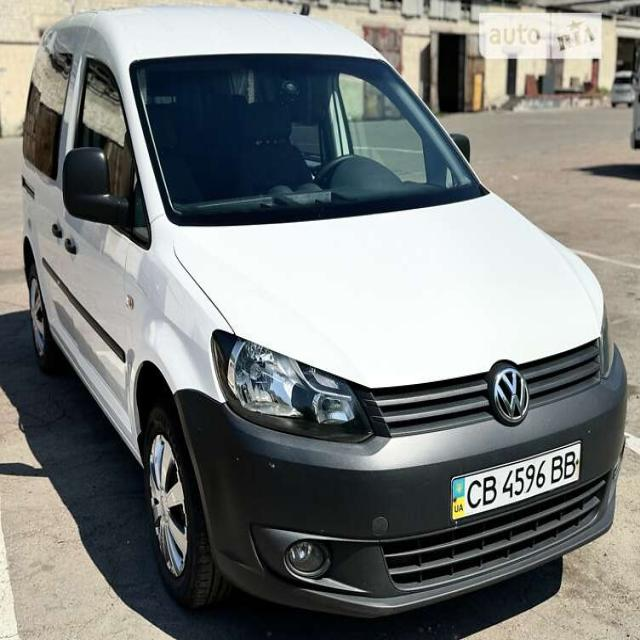plate: (454, 439, 586, 529)
